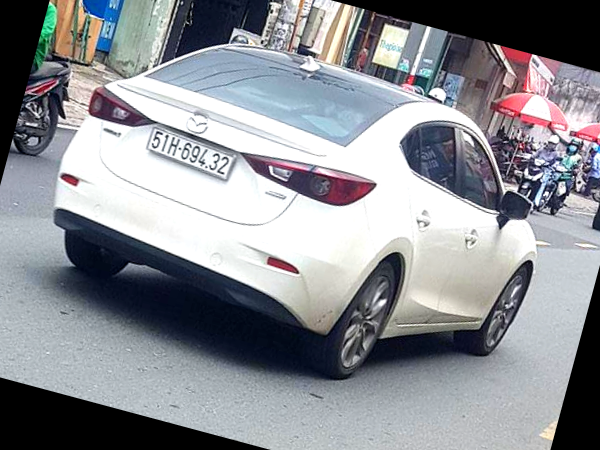lisence: (146, 128, 235, 182)
